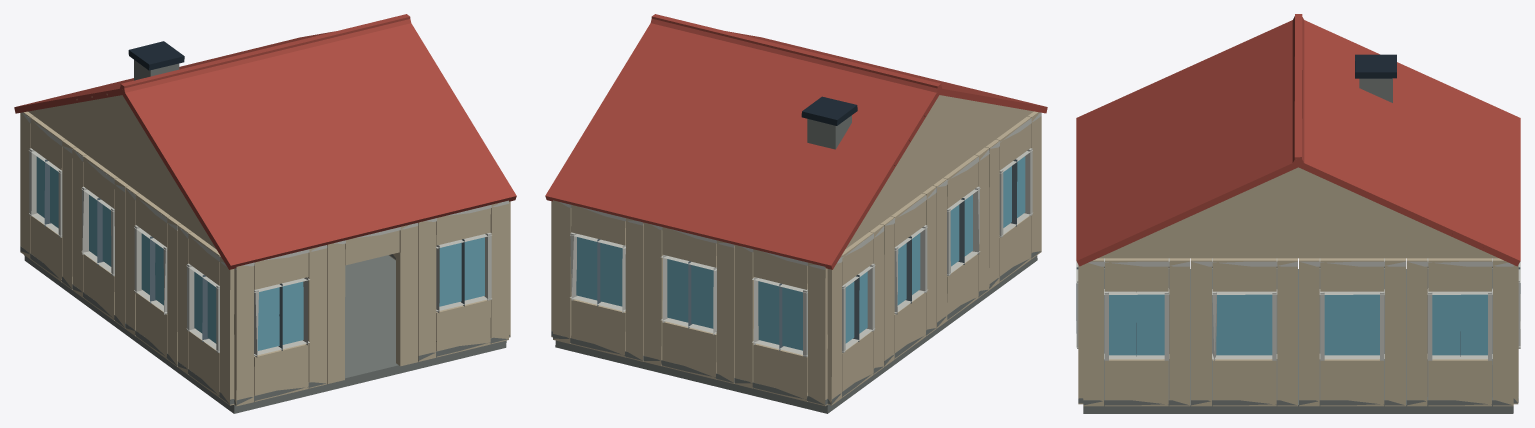
Rendered from architecture-house.lod2.glb.
3 views of the same model, side by side, from view 1: azimuth 30°, elevation 25°; view 2: azimuth 150°, elevation 25°; view 3: azimuth 270°, elevation 25° (orthographic). The views are drawn at different scales.
Visible parts, largest first — view 1: architecture-house__body; view 2: architecture-house__body; view 3: architecture-house__body.
Part boxes in pixels (x1,y1,x2,y2): architecture-house__body: (14, 14, 516, 413); architecture-house__body: (545, 14, 1047, 413); architecture-house__body: (1076, 14, 1520, 413).
Size of the model in its own units: 6.33 by 5.33 by 8.25.
